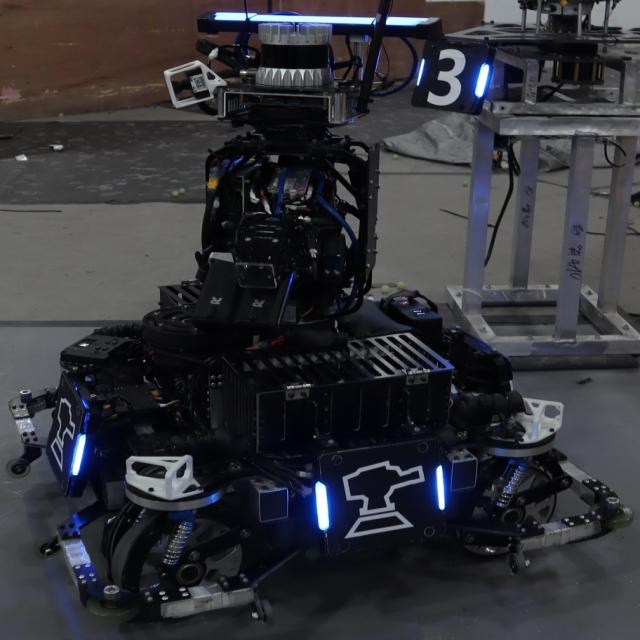B3: (413, 47, 486, 106)
Bs: (310, 456, 457, 547), (41, 388, 96, 483)
